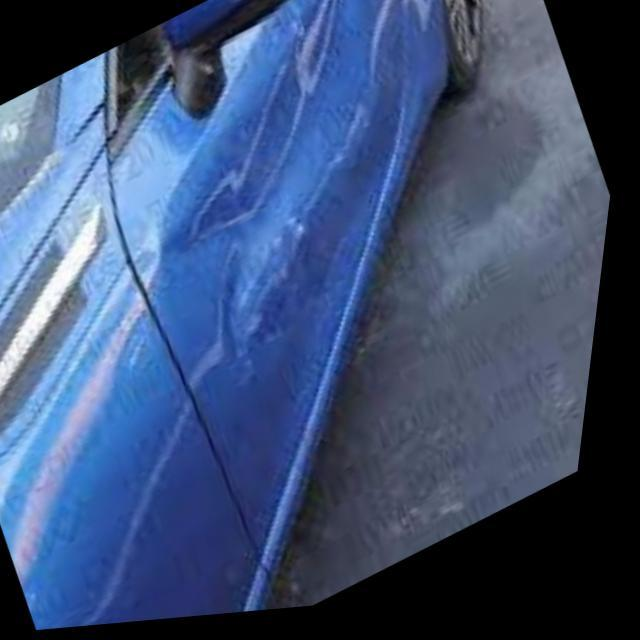dent: (160, 0, 389, 387)
